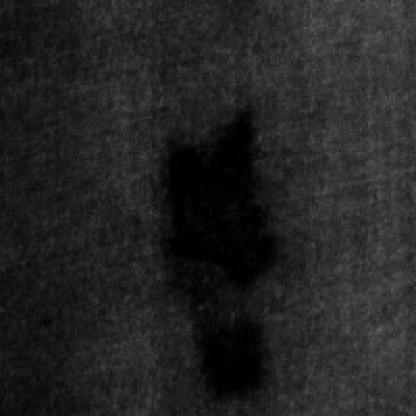patches: (154, 104, 274, 300), (185, 301, 268, 400)
